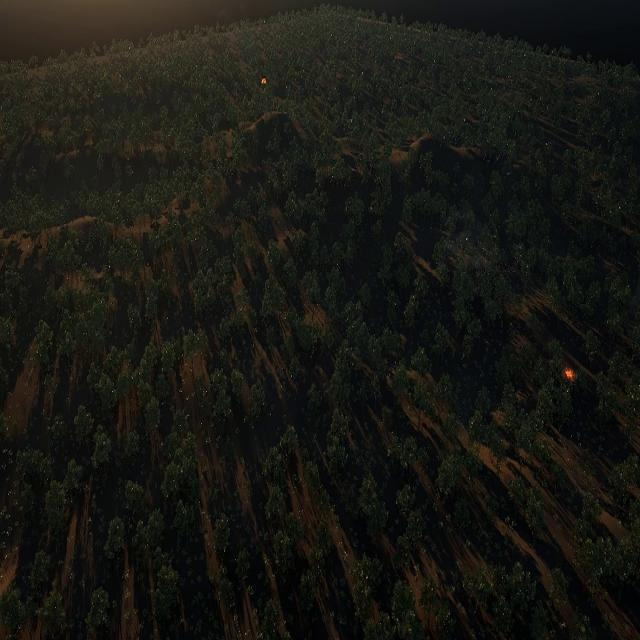fire: (564, 367, 574, 380), (258, 76, 266, 85)
